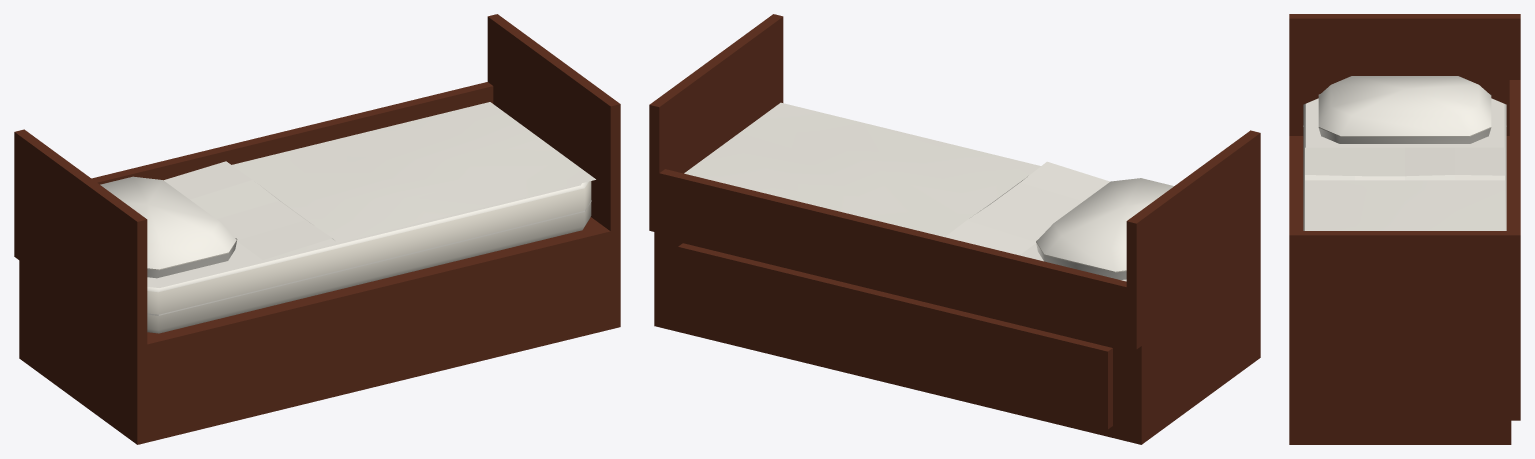
File: parametric-sized-berth-l170-1st.glb
The picture shows the model from 3 angles, left to right: view 1: azimuth 30°, elevation 25°; view 2: azimuth 150°, elevation 25°; view 3: azimuth 270°, elevation 25°; orthographic projection. The views are drawn at different scales.
Visible parts, largest first — view 1: parametric-sized-berth-l170-1st; view 2: parametric-sized-berth-l170-1st; view 3: parametric-sized-berth-l170-1st.
Boxes of the visible parts, x1,y1,x2,y2 form: parametric-sized-berth-l170-1st: [14, 14, 620, 444]; parametric-sized-berth-l170-1st: [649, 14, 1260, 444]; parametric-sized-berth-l170-1st: [1289, 14, 1520, 444].
Bounding box in the file's own units: 1.7 × 0.75 × 0.75.
